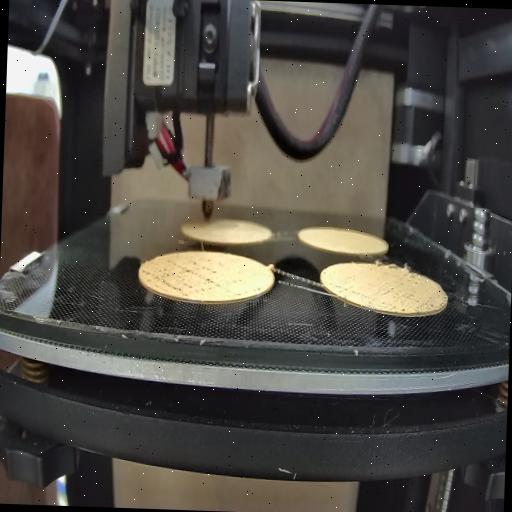under_extrusion: (143, 256, 222, 295), (382, 278, 434, 310), (330, 280, 366, 300), (236, 282, 264, 300)
